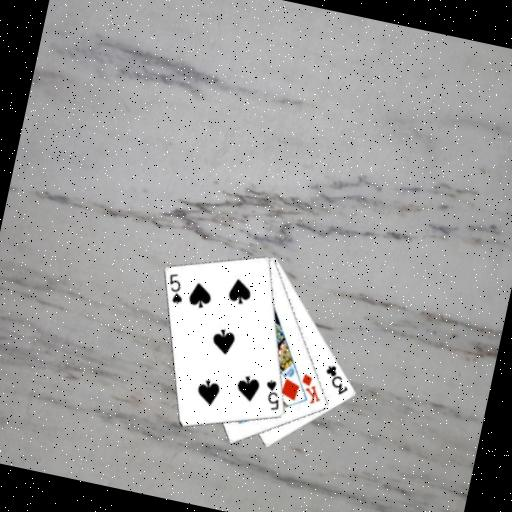3C: (318, 360, 354, 398)
5S: (258, 375, 286, 413), (161, 269, 189, 307)
KD: (294, 369, 327, 407)
